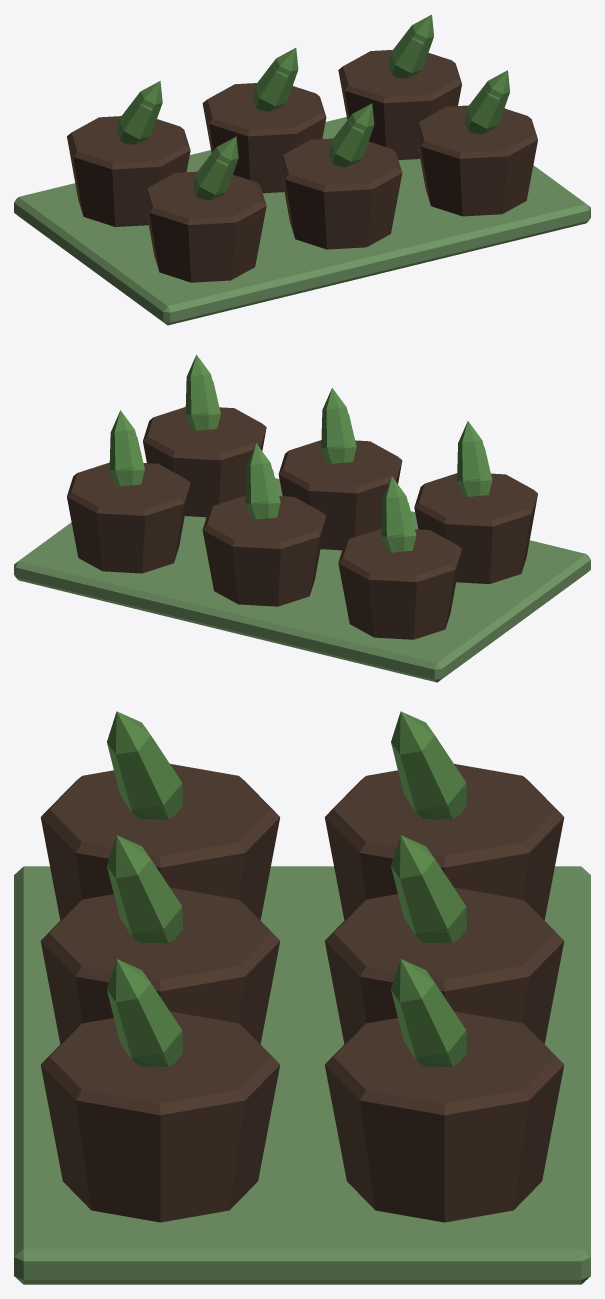
Rendered from 11_Seedling_Tray.glb.
The picture shows the model from 3 angles, top to bottom: view 1: azimuth 30°, elevation 25°; view 2: azimuth 150°, elevation 25°; view 3: azimuth 270°, elevation 25°; orthographic projection. The views are drawn at different scales.
Visible parts, largest first — view 1: 11_Seedling_Tray__Body; view 2: 11_Seedling_Tray__Body; view 3: 11_Seedling_Tray__Body.
Boxes of the visible parts, x1=… form: 11_Seedling_Tray__Body: x1=14, y1=14, x2=590, y2=325; 11_Seedling_Tray__Body: x1=14, y1=354, x2=590, y2=682; 11_Seedling_Tray__Body: x1=14, y1=711, x2=590, y2=1284.
Bounding box in the file's own units: 2.08 × 0.6884 × 1.3.
Materials: 1 (1 with a texture image).
